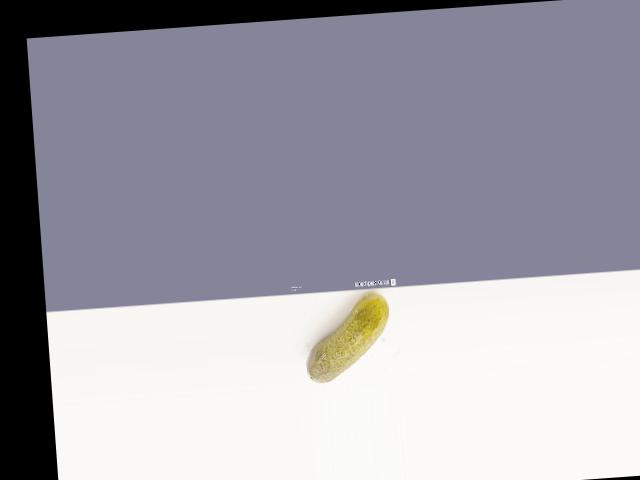cucumber: (301, 292, 393, 383)
